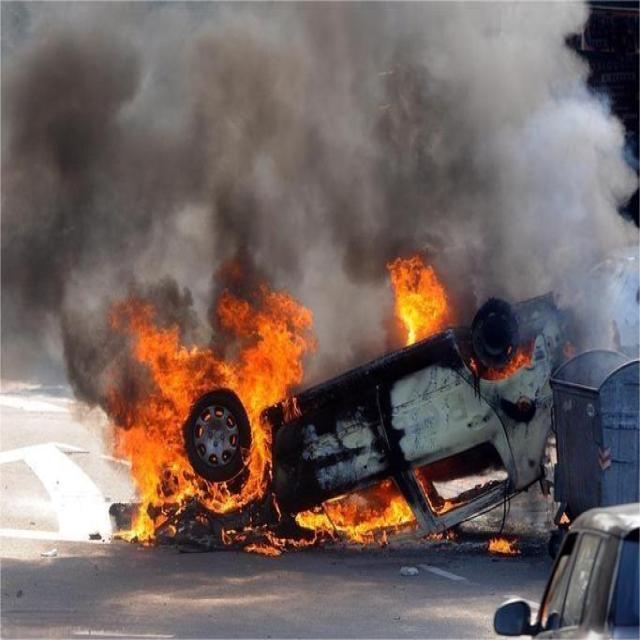Fire: (111, 283, 312, 401), (110, 399, 184, 546), (386, 253, 451, 346), (297, 497, 412, 545), (245, 399, 275, 489), (188, 471, 245, 514), (488, 533, 516, 556)
Smoke: (0, 0, 640, 255), (1, 256, 110, 408), (510, 254, 640, 350)
